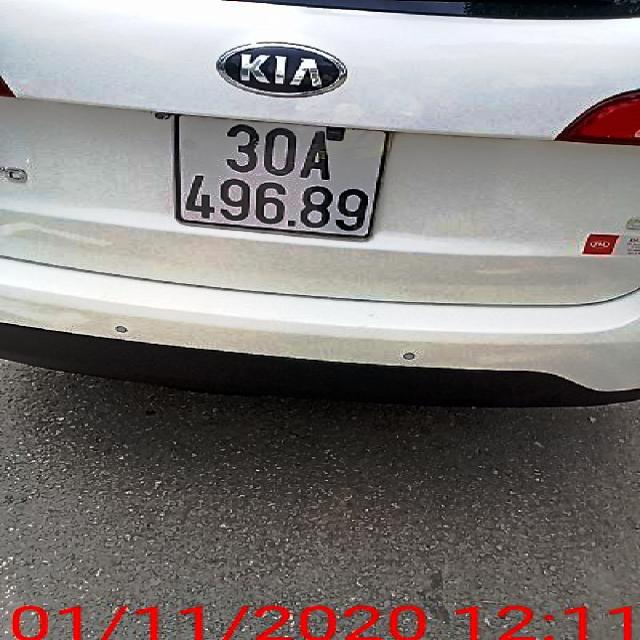license_plate: (180, 118, 386, 238)
